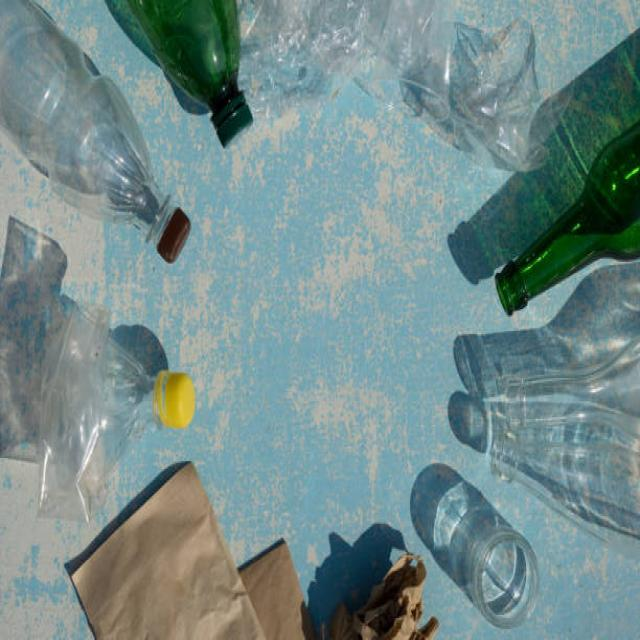glass: (470, 536, 534, 628)
paper: (63, 507, 439, 635)
plastic: (40, 307, 208, 469)
